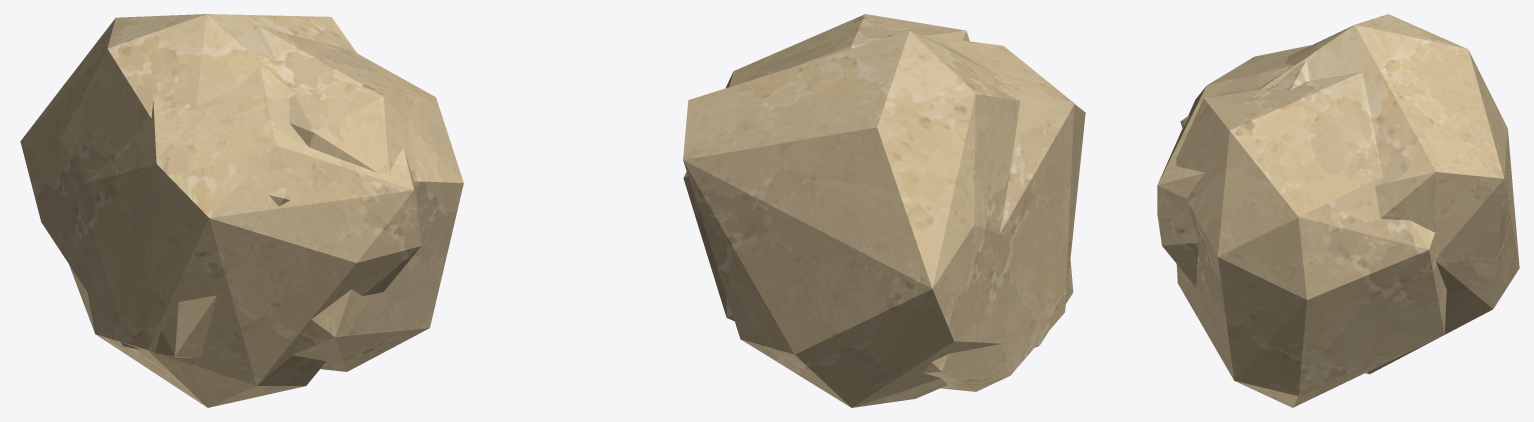
The model's file is ground_bottom_interior_06.glb.
The picture shows the model from 3 angles, left to right: view 1: azimuth 30°, elevation 25°; view 2: azimuth 150°, elevation 25°; view 3: azimuth 270°, elevation 25°; orthographic projection. The views are drawn at different scales.
Parts seen in each view (by area): view 1: GroundBottomInterior06_Body; view 2: GroundBottomInterior06_Body; view 3: GroundBottomInterior06_Body.
Boxes of the visible parts, left/top/right/bottom form: GroundBottomInterior06_Body: left=20, top=14, right=463, bottom=407; GroundBottomInterior06_Body: left=683, top=14, right=1085, bottom=407; GroundBottomInterior06_Body: left=1157, top=14, right=1519, bottom=407.
Size of the model in its own units: 1 by 1.03 by 1.
Materials: 1 (1 with a texture image).
